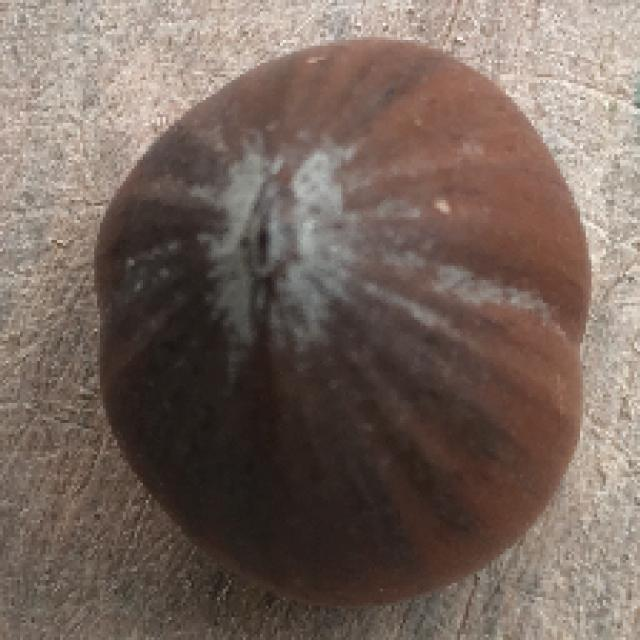qualityHazelnut: (103, 36, 588, 606)
